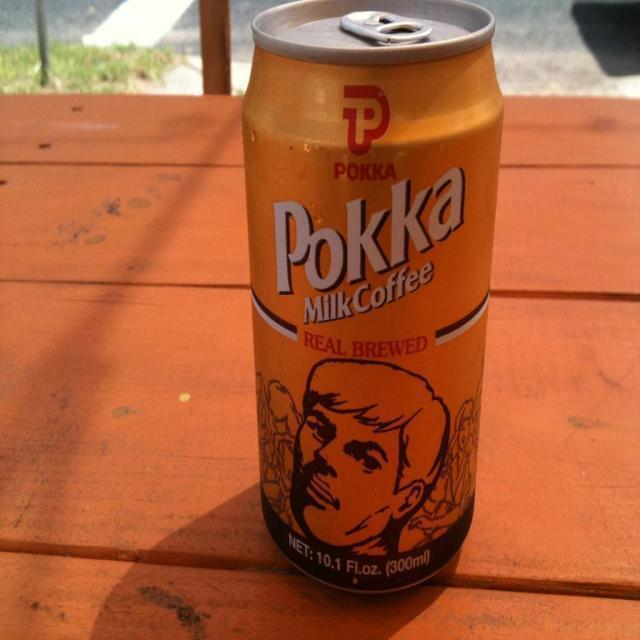metal-can: (227, 0, 515, 588)
